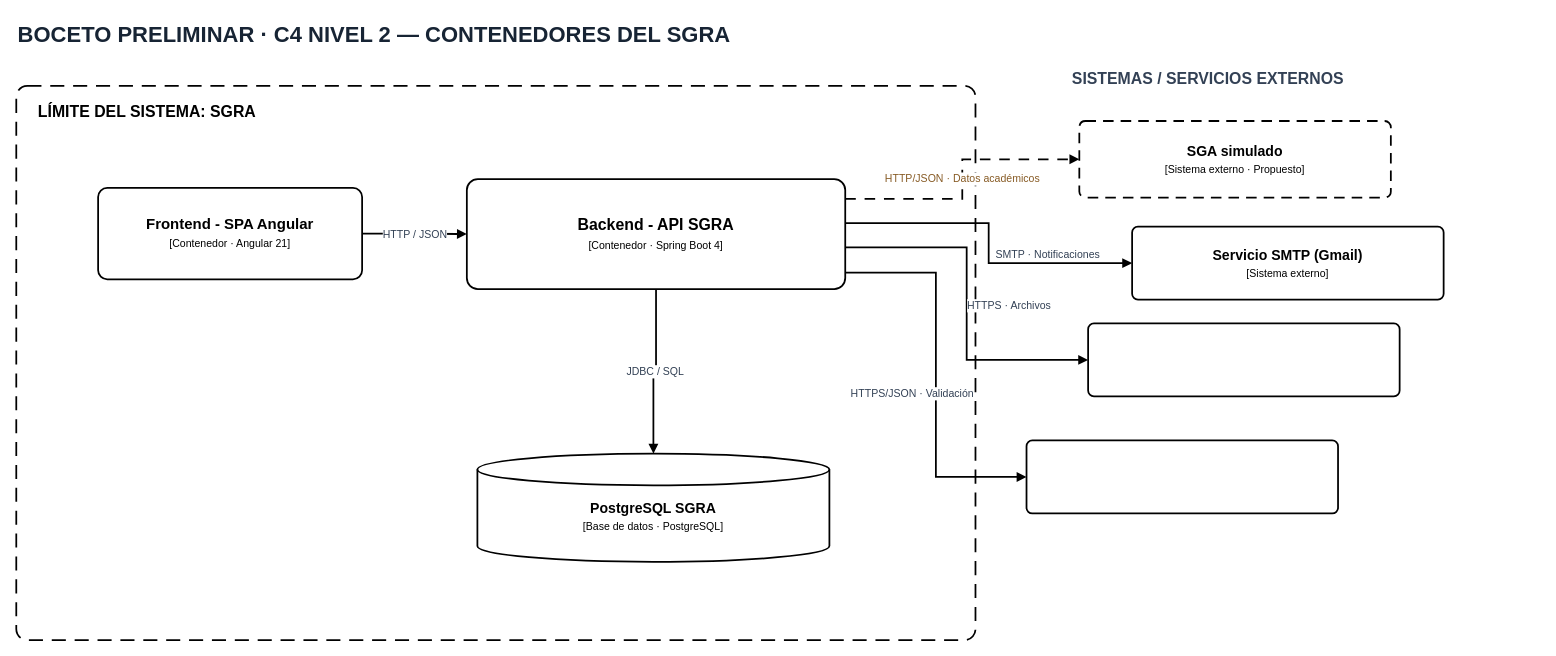
Image size: 1556x656. Some labels were removed from this diagram. Each missing label, with the centre of its shape:
"Azure Blob Storage [Servicio externo de archivos]" belongs at (x=1243, y=359).
"Groq [Proveedor externo de validación]" belongs at (x=1181, y=476).
